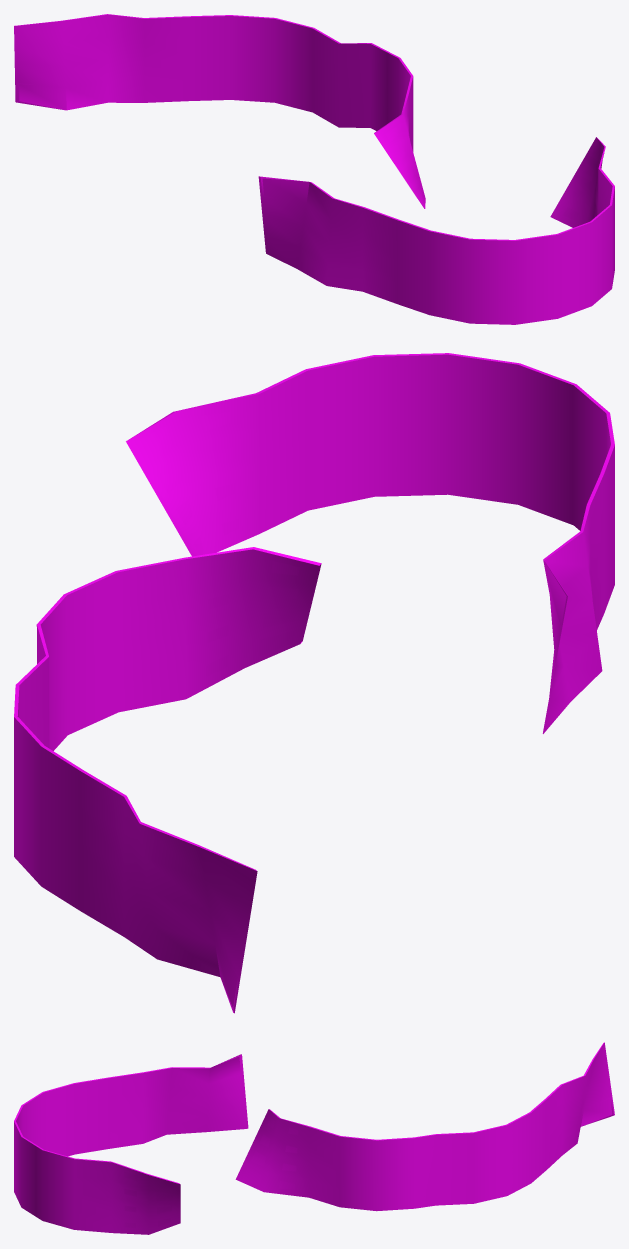
Rendered from wristbands.dae.
3 views of the same model, one above another, from view 1: azimuth 30°, elevation 25°; view 2: azimuth 150°, elevation 25°; view 3: azimuth 270°, elevation 25° (orthographic). The views are drawn at different scales.
Visible parts, largest first — view 1: Wristband2, Wristband1; view 2: Wristband1, Wristband2; view 3: Wristband1, Wristband2.
Part boxes in pixels (x1,y1,x2,y2): Wristband2: [14, 14, 425, 208]; Wristband1: [258, 137, 614, 324]; Wristband1: [126, 353, 614, 733]; Wristband2: [14, 547, 321, 1013]; Wristband1: [14, 1054, 248, 1234]; Wristband2: [235, 1042, 614, 1211].
Bounding box in the file's own units: 8.25 × 2.13 × 15.4.
